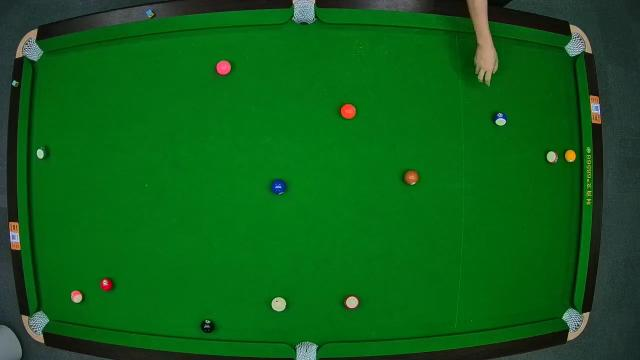bag1: (22, 38, 42, 60)
bag2: (291, 0, 317, 26)
bag3: (566, 35, 588, 55)
bag4: (28, 309, 48, 335)
bag5: (294, 340, 318, 360)
bag6: (562, 309, 582, 331)
ball0: (272, 296, 288, 312)
ball1: (566, 149, 576, 163)
ball10: (494, 112, 506, 126)
ball11: (344, 294, 360, 310)
ball12: (70, 290, 82, 304)
ball14: (36, 144, 49, 160)
ball15: (546, 150, 558, 164)
ball2: (270, 178, 286, 196)
ball3: (100, 278, 112, 290)
ball4: (216, 60, 232, 76)
ball5: (340, 102, 356, 119)
ball7: (402, 170, 418, 186)
ball8: (201, 318, 215, 334)
